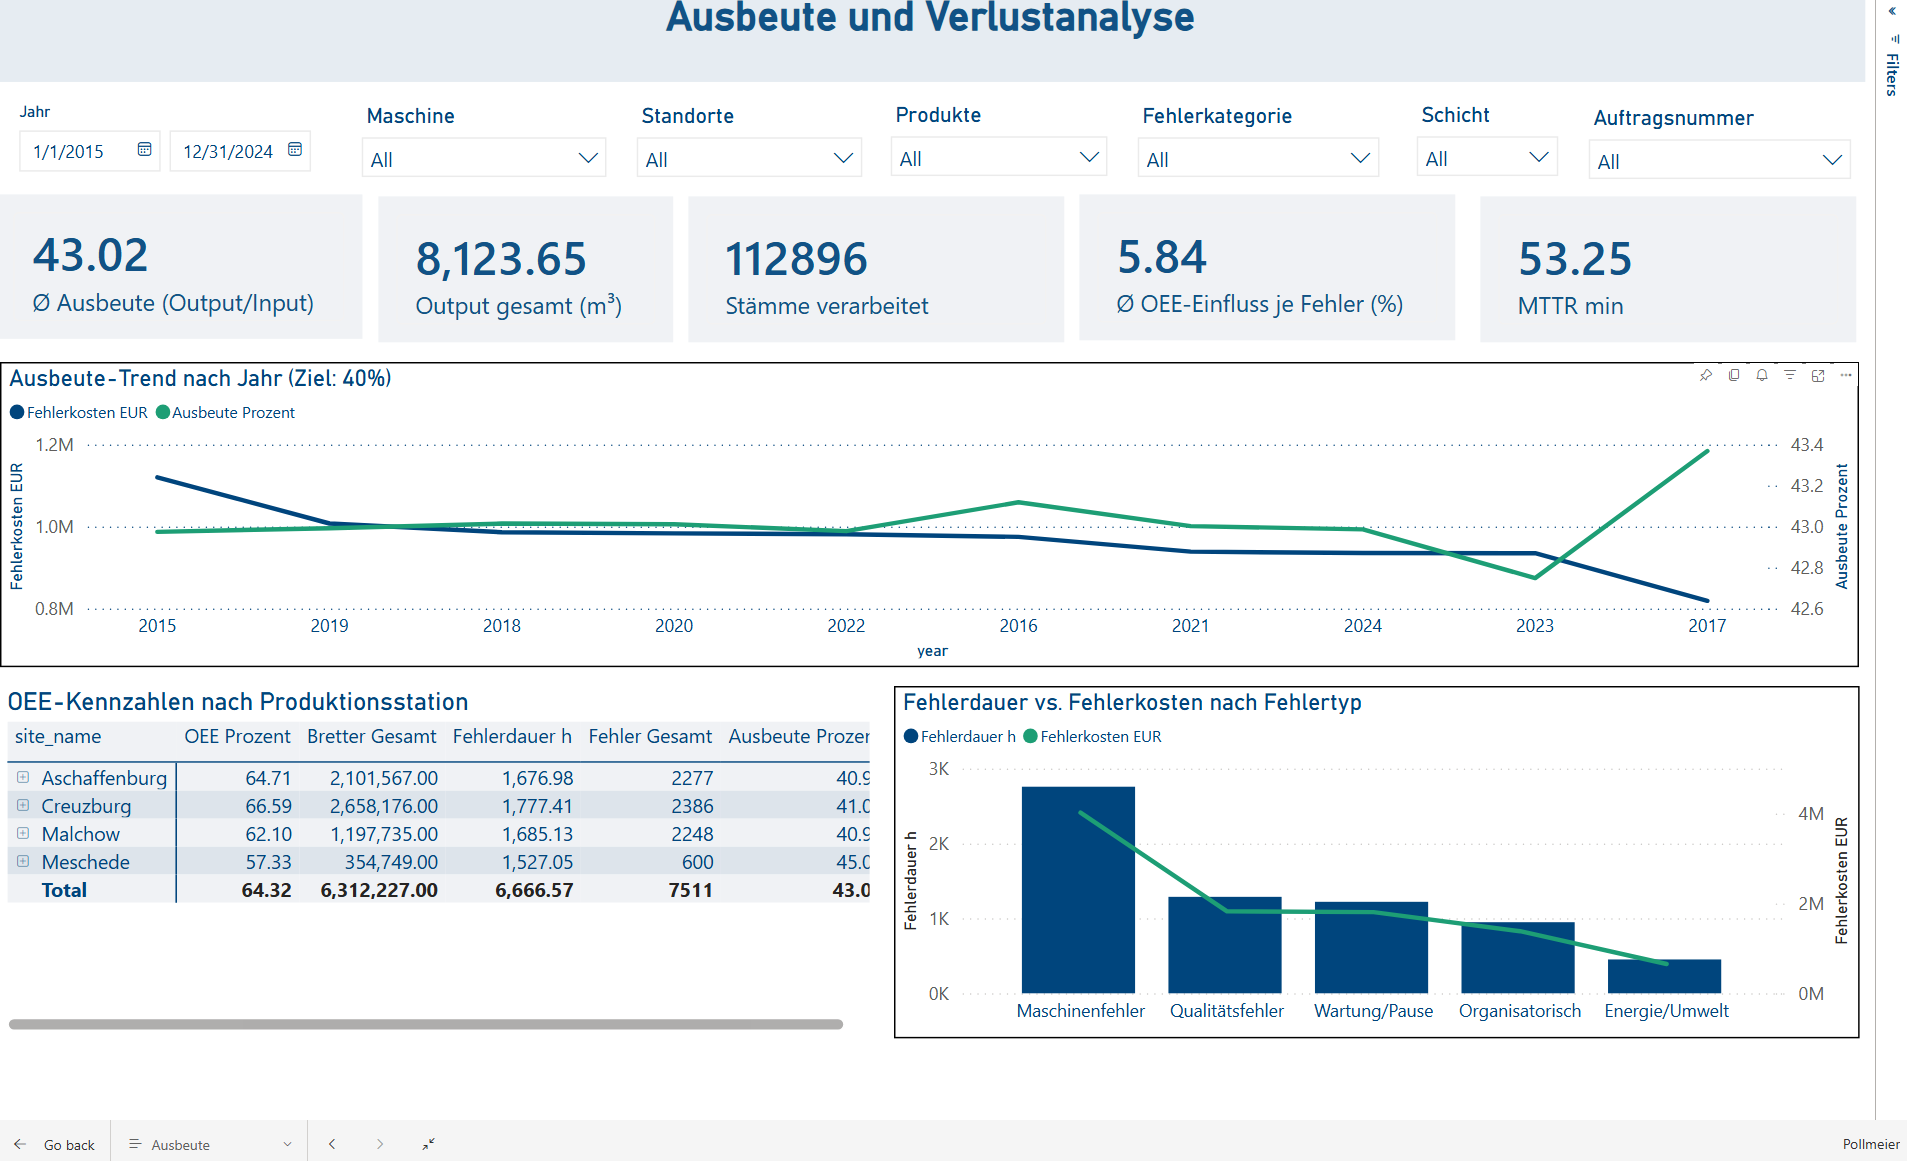

This screenshot's page, from the dashboard's own definition file:
{"tool":"powerbi","page":{"name":"Ausbeute","canvas":[1280,720],"ordinal":3},"visuals":[{"type":"lineChart","title":"Ausbeute-Trend nach Jahr (Ziel: 40%)","fields":{"Category":["DIM_Date.year"],"Y":["_Measures.Fehlerkosten EUR"],"Y2":["_Measures.Ausbeute Prozent"]},"box":[8.1,250.7,1260.9,206.9],"z":0,"group":"g2"},{"type":"lineStackedColumnComboChart","title":"Fehlerdauer vs. Fehlerkosten nach Fehlertyp","fields":{"Y":["_Measures.Fehlerdauer h"],"Y2":["_Measures.Fehlerkosten EUR"],"Category":["DIM_ErrorType.error_category"]},"box":[614.3,471,654.6,239.1],"z":0,"group":"g1"},{"type":"textbox","title":"Ausbeute und Verlustanalyse","box":[5.3,0,1268,61.2],"z":3000},{"type":"pivotTable","title":"OEE-Kennzahlen nach Produktionsstation","fields":{"Rows":["DIM_Site.site_name","DIM_Product.product_family"],"Values":["_Measures.OEE Prozent","_Measures.Bretter Gesamt","_Measures.Fehlerdauer h","_Measures.Fehler Gesamt","_Measures.Ausbeute Prozent"]},"box":[8.1,471,594.6,239.1],"z":4000},{"type":"group","id":"g1","title":"Gruppe 1","box":[614.3,471,654.6,239.1],"z":5000},{"type":"slicer","fields":{"Values":["DIM_Site.site_name"]},"box":[429.9,70.7,172.8,62.7],"z":7000},{"type":"cardVisual","fields":{"Data":["_Measures.Ausbeute Prozent"]},"box":[0,132.5,259.7,108.4],"z":8000},{"type":"slicer","fields":{"Values":["DIM_Product.product_family"]},"box":[602.7,69.9,167.5,62.7],"z":10000},{"type":"cardVisual","fields":{"Data":["_Measures.Stämme Gesamt"]},"box":[470.1,133.4,265.1,109.3],"z":11000},{"type":"cardVisual","fields":{"Data":["_Measures.Output m3"]},"box":[259.7,133.4,210.4,109.3],"z":12000},{"type":"cardVisual","fields":{"Data":["_Measures.Ø OEE Impact"]},"box":[735.2,132.5,265.1,109.3],"z":13000},{"type":"cardVisual","fields":{"Data":["_Measures.MTTR min"]},"box":[1007.5,133.4,265.1,109.3],"z":14000},{"type":"slicer","fields":{"Values":["DIM_Date.date"]},"box":[8.1,69.9,230.1,62.7],"z":15000},{"type":"slicer","fields":{"Values":["DIM_Machine.machine_name"]},"box":[243.6,70.7,186.3,61.8],"z":16000},{"type":"slicer","fields":{"Values":["DIM_ErrorType.error_category"]},"box":[770.1,70.7,183.6,62.7],"z":17000},{"type":"slicer","fields":{"Values":["DIM_Shift.shift_name"]},"box":[959.1,69.9,115.5,62.7],"z":18000},{"type":"group","id":"g2","title":"Gruppe 1","box":[8.1,250.7,1260.9,206.9],"z":19000},{"type":"slicer","fields":{"Values":["FACT_Production.auftragsnummer"]},"box":[1075.5,71.6,197.9,61.8],"z":19001}]}

Visuals, with their boxes on the page's 1280x720 design canvas (x1, y1, x2, y2). These are canvas units, not pixel positions in the 1907x1161 screenshot, which may show the page scaled, cropped or inside an application window:
"Ausbeute-Trend nach Jahr (Ziel: 40%)" lineChart: [x1=8, y1=251, x2=1269, y2=458]
"Fehlerdauer vs. Fehlerkosten nach Fehlertyp" lineStackedColumnComboChart: [x1=614, y1=471, x2=1269, y2=710]
"Ausbeute und Verlustanalyse" textbox: [x1=5, y1=0, x2=1273, y2=61]
"OEE-Kennzahlen nach Produktionsstation" pivotTable: [x1=8, y1=471, x2=603, y2=710]
"Gruppe 1" group: [x1=614, y1=471, x2=1269, y2=710]
slicer - DIM_Site.site_name: [x1=430, y1=71, x2=603, y2=133]
cardVisual - _Measures.Ausbeute Prozent: [x1=0, y1=132, x2=260, y2=241]
slicer - DIM_Product.product_family: [x1=603, y1=70, x2=770, y2=133]
cardVisual - _Measures.Stämme Gesamt: [x1=470, y1=133, x2=735, y2=243]
cardVisual - _Measures.Output m3: [x1=260, y1=133, x2=470, y2=243]
cardVisual - _Measures.Ø OEE Impact: [x1=735, y1=132, x2=1000, y2=242]
cardVisual - _Measures.MTTR min: [x1=1008, y1=133, x2=1273, y2=243]
slicer - DIM_Date.date: [x1=8, y1=70, x2=238, y2=133]
slicer - DIM_Machine.machine_name: [x1=244, y1=71, x2=430, y2=132]
slicer - DIM_ErrorType.error_category: [x1=770, y1=71, x2=954, y2=133]
slicer - DIM_Shift.shift_name: [x1=959, y1=70, x2=1075, y2=133]
"Gruppe 1" group: [x1=8, y1=251, x2=1269, y2=458]
slicer - FACT_Production.auftragsnummer: [x1=1076, y1=72, x2=1273, y2=133]
